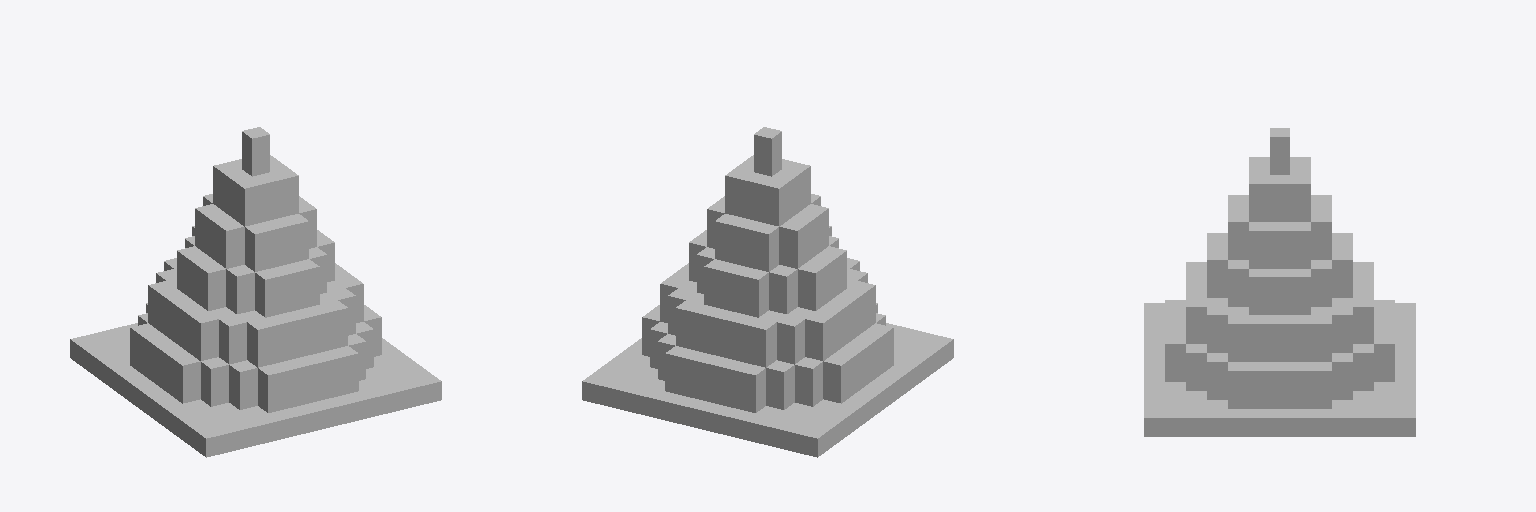
Rendered from traffic_cone.obj.
3 renders of one model, left to right at view 1: azimuth 30°, elevation 25°; view 2: azimuth 150°, elevation 25°; view 3: azimuth 270°, elevation 25°, orthographic.
Visible parts, largest first — view 1: object 1; view 2: object 1; view 3: object 1.
Boxes of the visible parts, x1=… form: object 1: x1=70, y1=127, x2=441, y2=457; object 1: x1=582, y1=127, x2=953, y2=457; object 1: x1=1144, y1=128, x2=1415, y2=436.
Bounding box in the file's own units: 1.3 × 1.3 × 1.3.